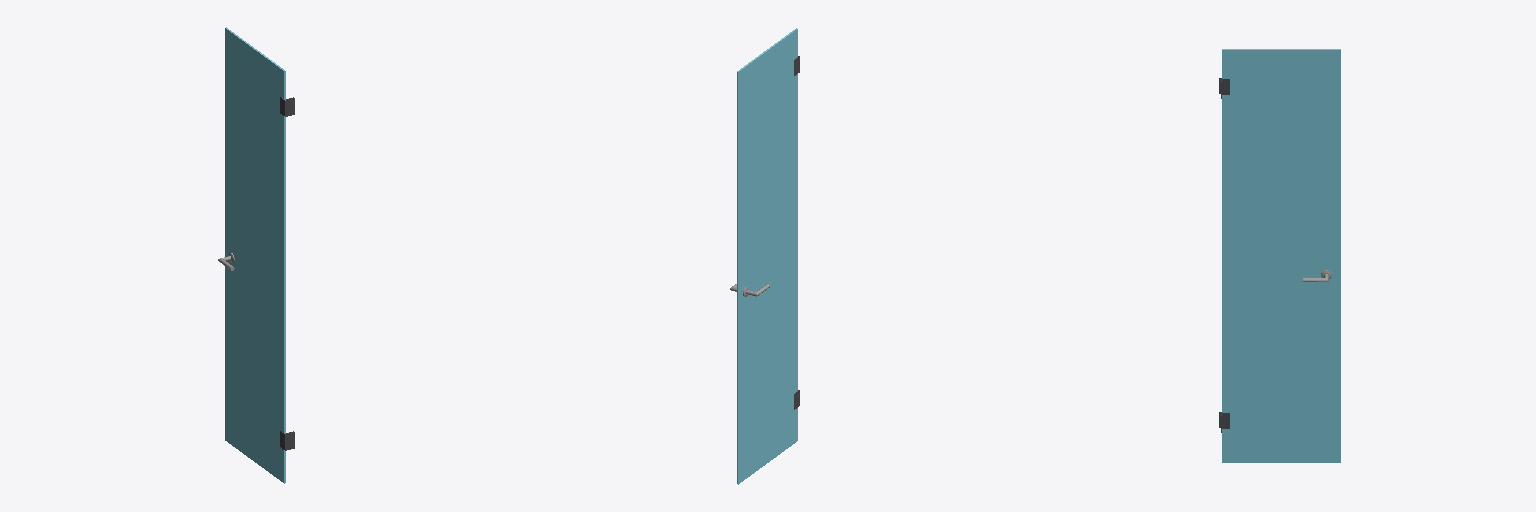
File: Tuere_Dusche.obj
3 views of the same model, side by side, from view 1: azimuth 30°, elevation 25°; view 2: azimuth 150°, elevation 25°; view 3: azimuth 270°, elevation 25° (orthographic).
Parts seen in each view (by area): view 1: Mesh1 Component_222 G_22_T_re_Dusche_dwg1 Model; view 2: Mesh1 Component_222 G_22_T_re_Dusche_dwg1 Model; view 3: Mesh1 Component_222 G_22_T_re_Dusche_dwg1 Model.
Boxes of the visible parts, <box> form: Mesh1 Component_222 G_22_T_re_Dusche_dwg1 Model: <box>225,27,285,483</box>; Mesh1 Component_222 G_22_T_re_Dusche_dwg1 Model: <box>737,28,797,484</box>; Mesh1 Component_222 G_22_T_re_Dusche_dwg1 Model: <box>1222,49,1340,462</box>.
Bounding box in the file's own units: 15.86 × 229 × 61.3.